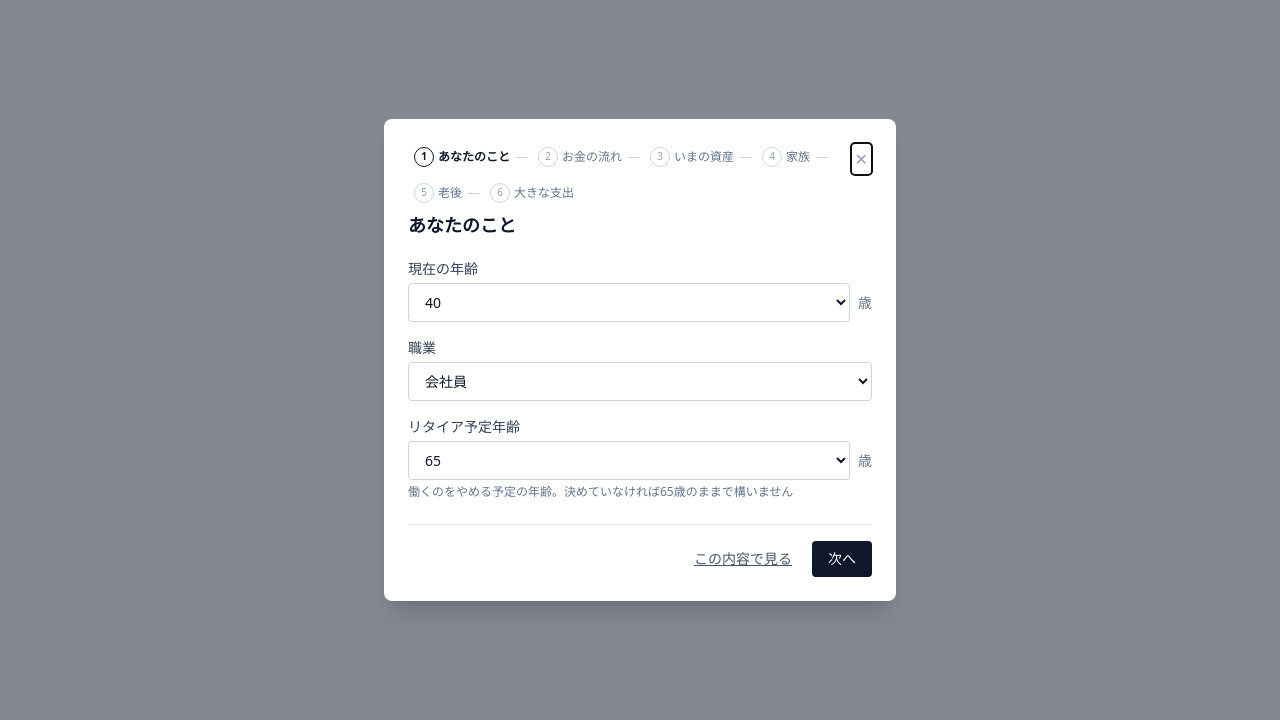
Scenario: 黙って間違う条件の警告（Finding C1） › Step 5: 試算範囲外のイベントに警告が出る
Click the button "次へ".
click(842, 559)  # box x1=812 y1=541 x2=872 y2=577
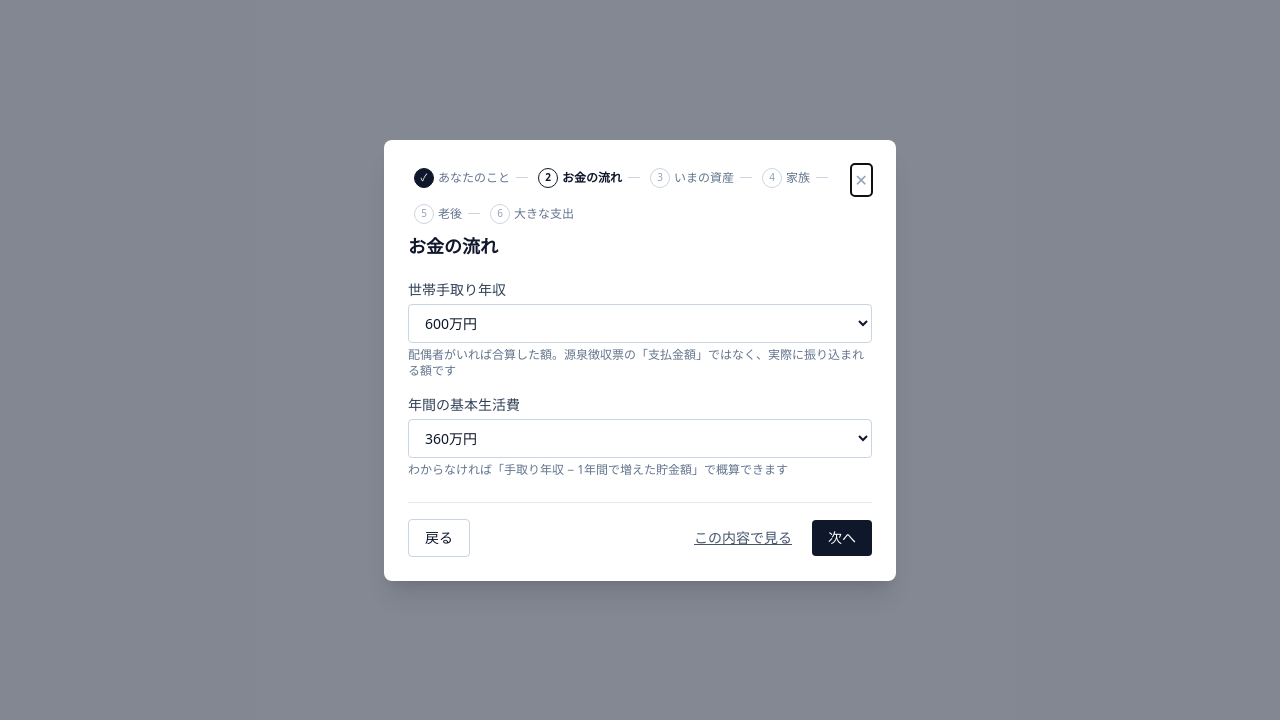
Click the button "次へ".
click(842, 538)  # box x1=812 y1=520 x2=872 y2=556
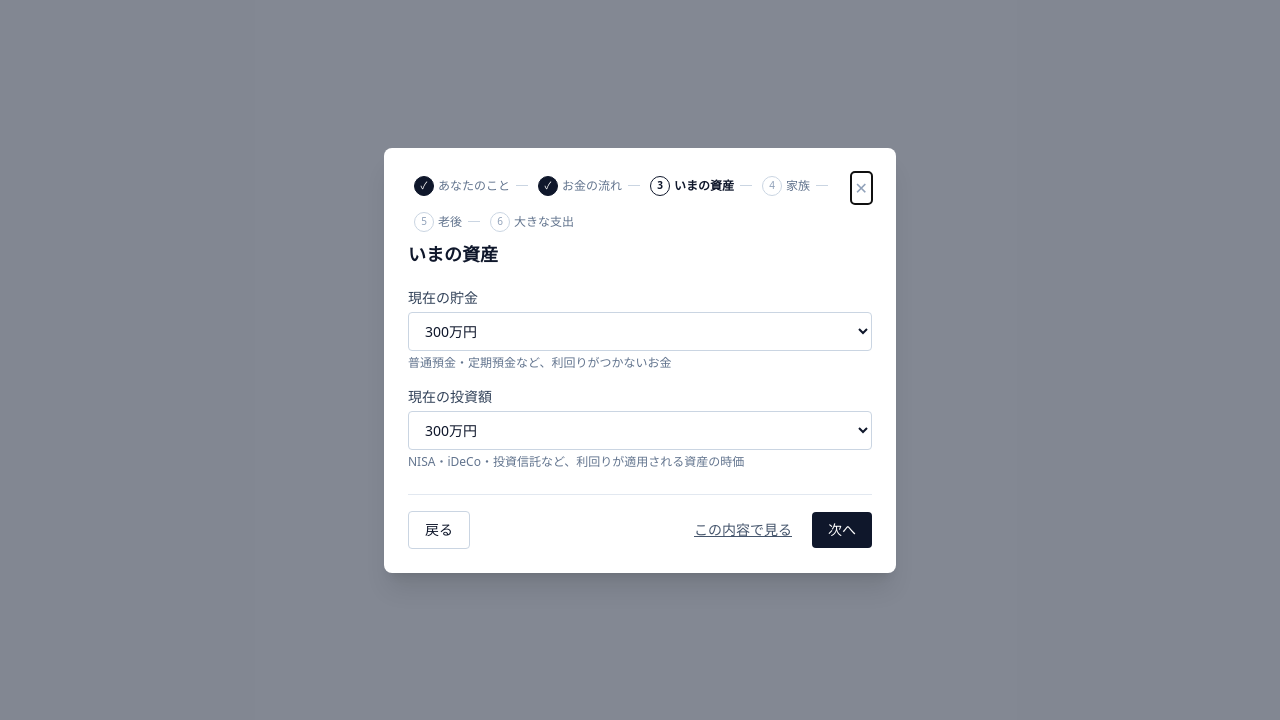
Click the button "次へ".
click(842, 530)  # box x1=812 y1=512 x2=872 y2=548
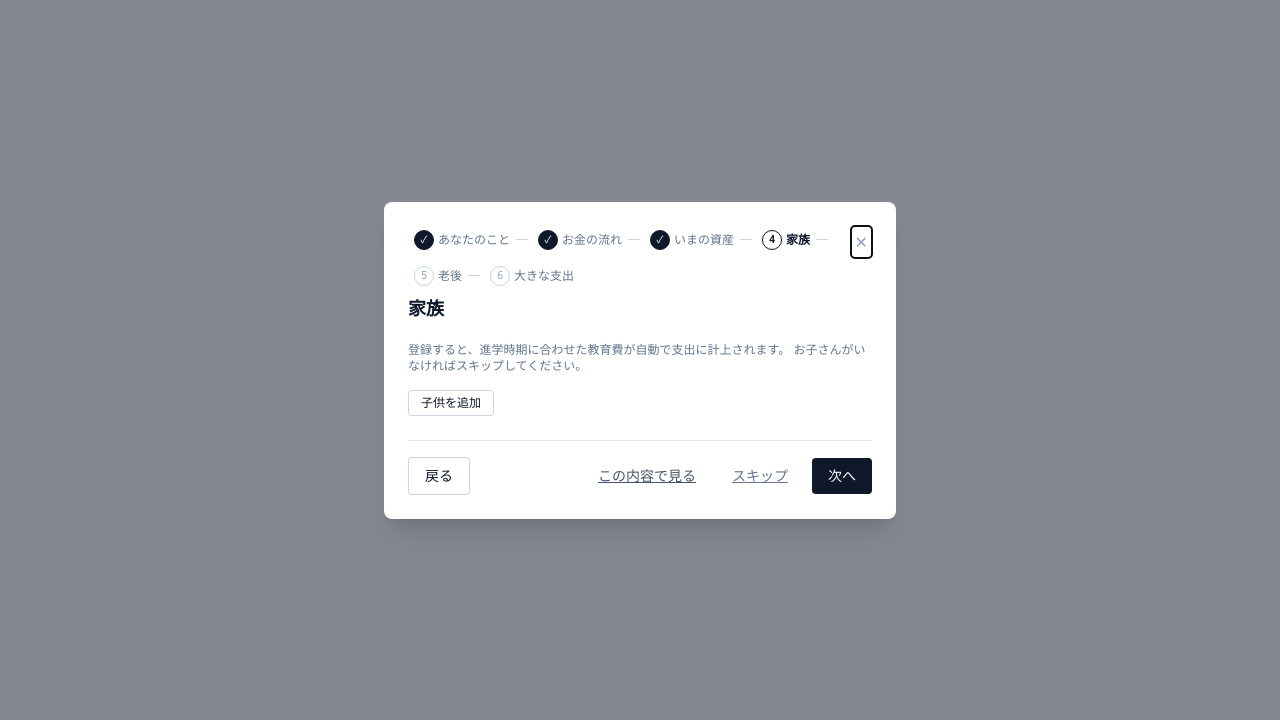
Click the button "次へ".
click(842, 476)  # box x1=812 y1=458 x2=872 y2=494
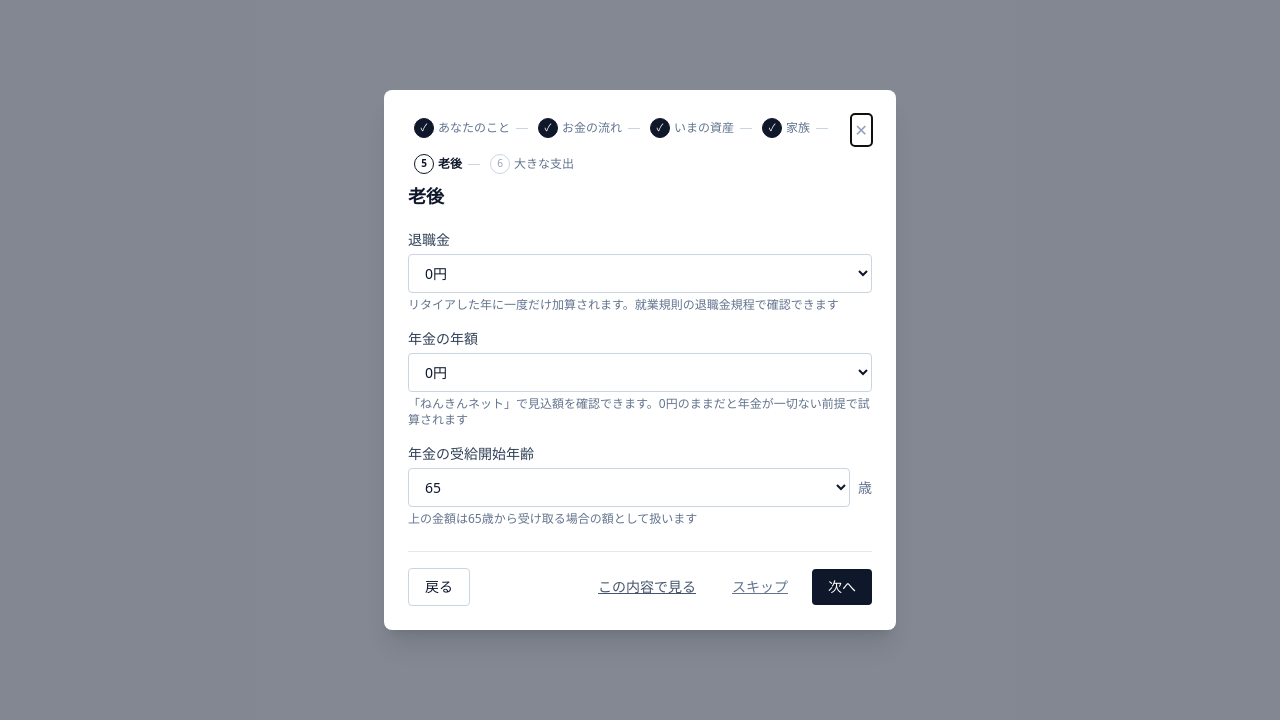
Click the button "次へ".
click(842, 587)  # box x1=812 y1=569 x2=872 y2=605
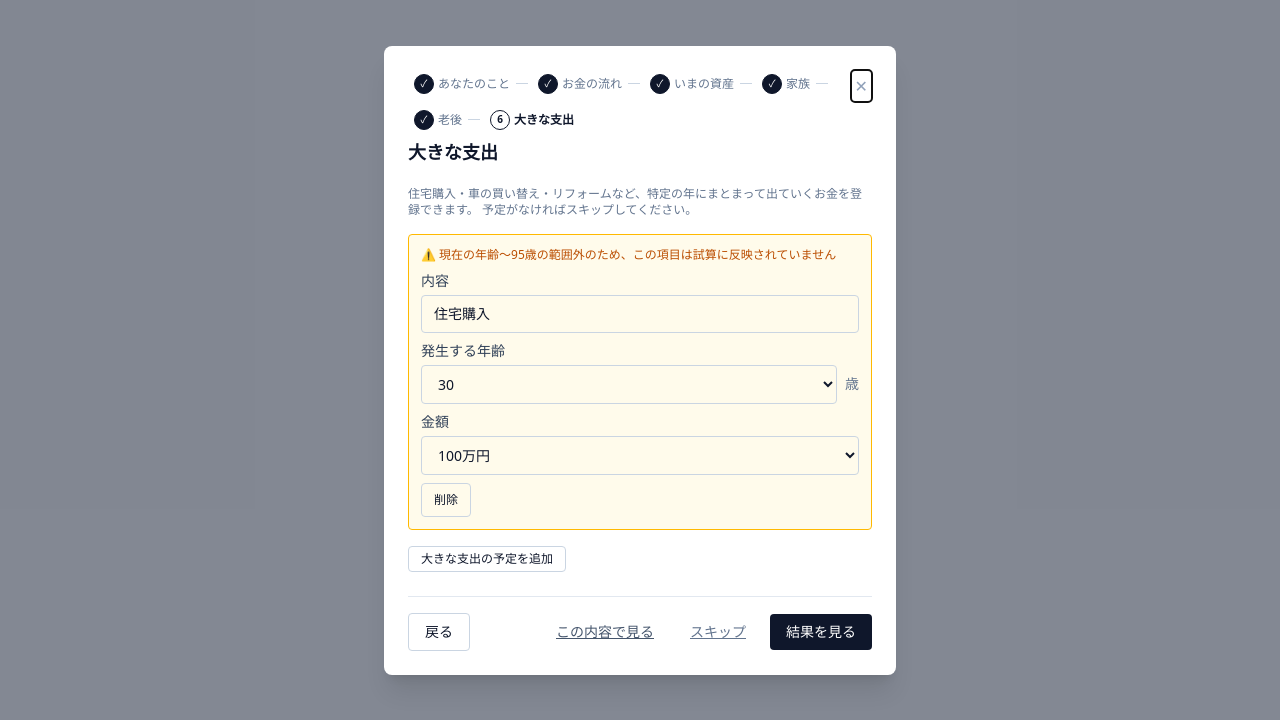
Expected: the text "⚠️ 現在の年齢〜95歳の範囲外のため、この項目は試算に反映されていません" is shown, x1=421 y1=246 x2=859 y2=262
